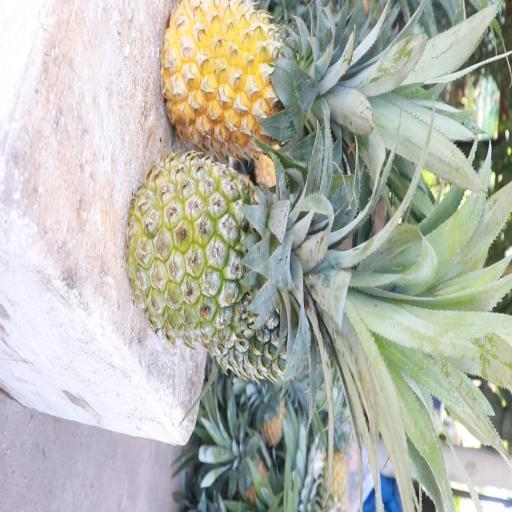------------------------------: (125, 152, 303, 340)
Pineapple - v8 v1: (162, 0, 341, 146)
